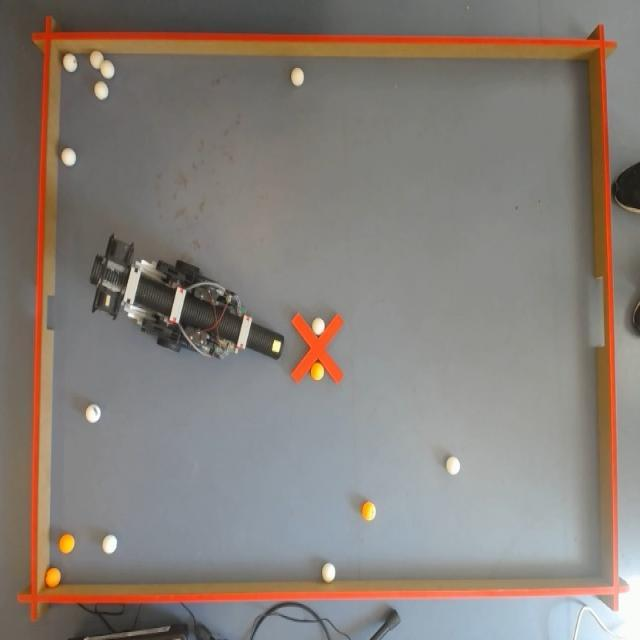orange: (254, 329, 284, 359), (361, 502, 377, 524), (58, 534, 76, 552), (44, 571, 63, 588), (310, 360, 322, 381)
robot: (91, 235, 284, 367)
white: (88, 51, 104, 71), (99, 59, 114, 79), (62, 53, 76, 73), (292, 66, 304, 88), (322, 563, 334, 585), (102, 534, 115, 554), (61, 150, 75, 168), (86, 406, 100, 424), (446, 458, 460, 476), (94, 82, 107, 101), (312, 315, 323, 333)
